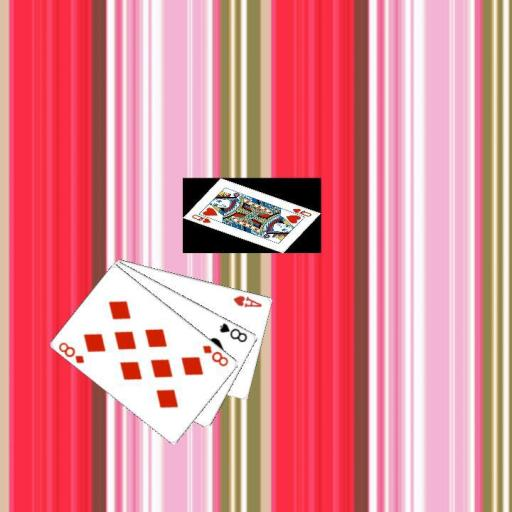8D: (199, 342, 231, 368), (56, 338, 86, 365)
8S: (217, 319, 249, 344)
AH: (230, 292, 264, 309)
